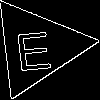E: (12, 22, 54, 71)
